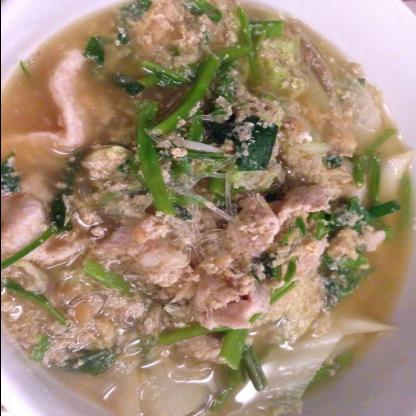Suki: (1, 0, 400, 408)
